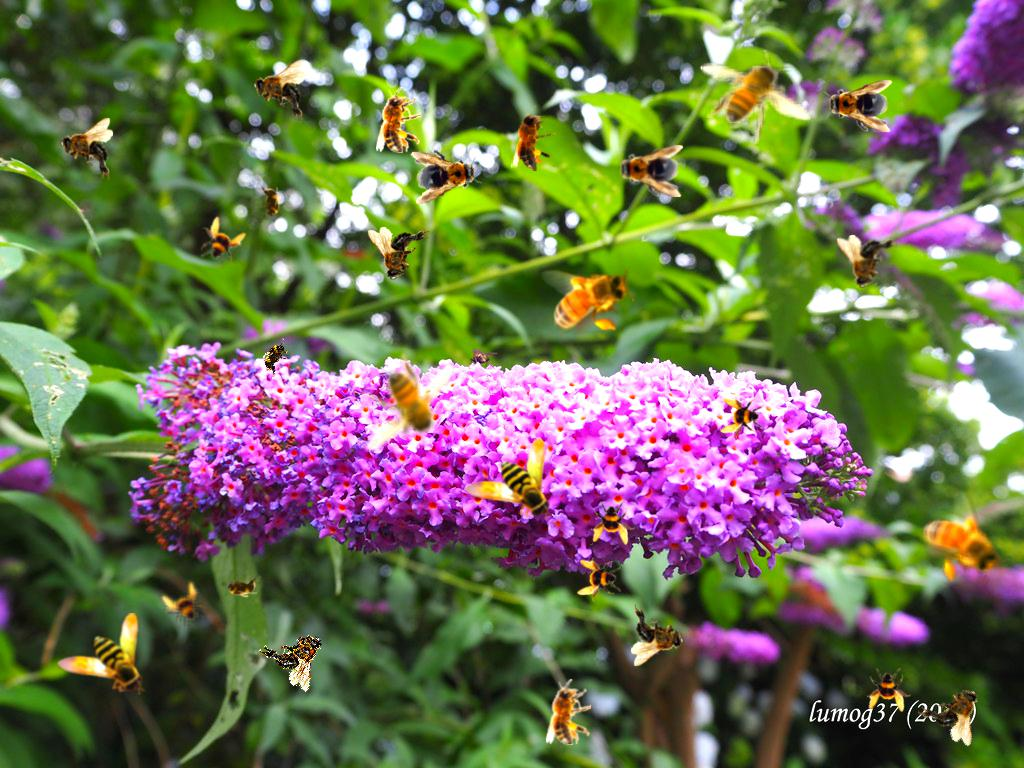Bee: (342, 337, 469, 475), (907, 485, 1015, 600), (700, 50, 811, 144), (57, 613, 145, 695), (464, 438, 552, 520), (256, 613, 339, 695), (915, 670, 996, 750), (541, 266, 634, 334), (408, 143, 484, 205), (153, 576, 215, 638), (190, 212, 250, 272), (824, 80, 892, 132), (615, 145, 683, 197), (837, 235, 899, 288), (60, 118, 113, 180), (253, 60, 306, 122), (631, 604, 684, 666), (368, 227, 430, 280), (511, 105, 556, 171), (546, 679, 591, 745), (376, 87, 421, 153), (591, 501, 635, 545), (867, 668, 911, 712), (577, 558, 621, 602), (720, 396, 764, 440), (254, 334, 296, 380), (221, 576, 261, 598), (260, 183, 282, 223)
